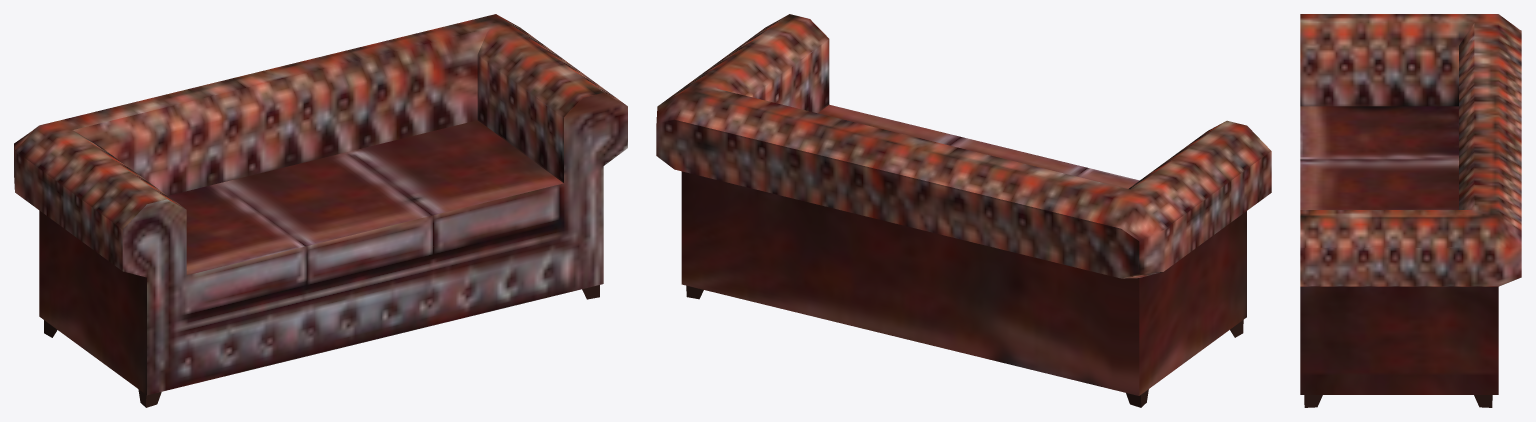
File: Armchair_04-col.glb
The picture shows the model from 3 angles, left to right: view 1: azimuth 30°, elevation 25°; view 2: azimuth 150°, elevation 25°; view 3: azimuth 270°, elevation 25°; orthographic projection. The views are drawn at different scales.
Parts seen in each view (by area): view 1: Armchair_04-col; view 2: Armchair_04-col; view 3: Armchair_04-col.
Part boxes in pixels (x1,y1,x2,y2): Armchair_04-col: [14, 14, 627, 407]; Armchair_04-col: [656, 14, 1271, 407]; Armchair_04-col: [1300, 14, 1521, 407].
Size of the model in its own units: 2.79 by 1.09 by 1.15.
Materials: 1 (1 with a texture image).
